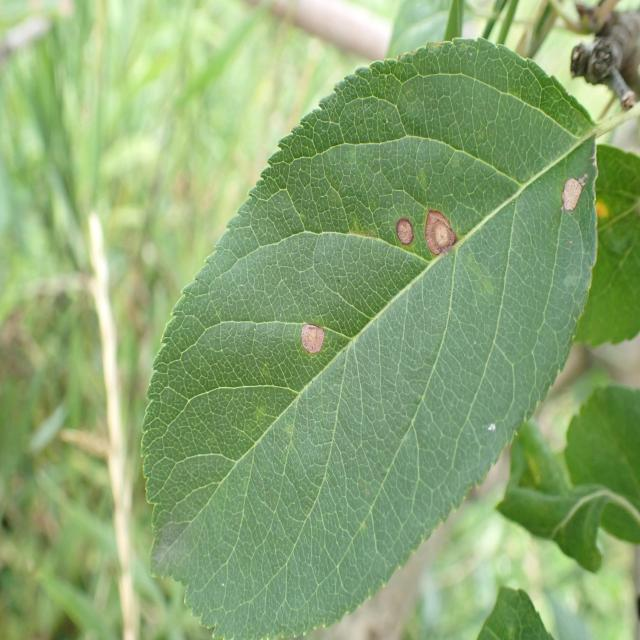Black Rot: (542, 158, 604, 234), (292, 313, 348, 381), (374, 199, 419, 265), (423, 203, 462, 260)
